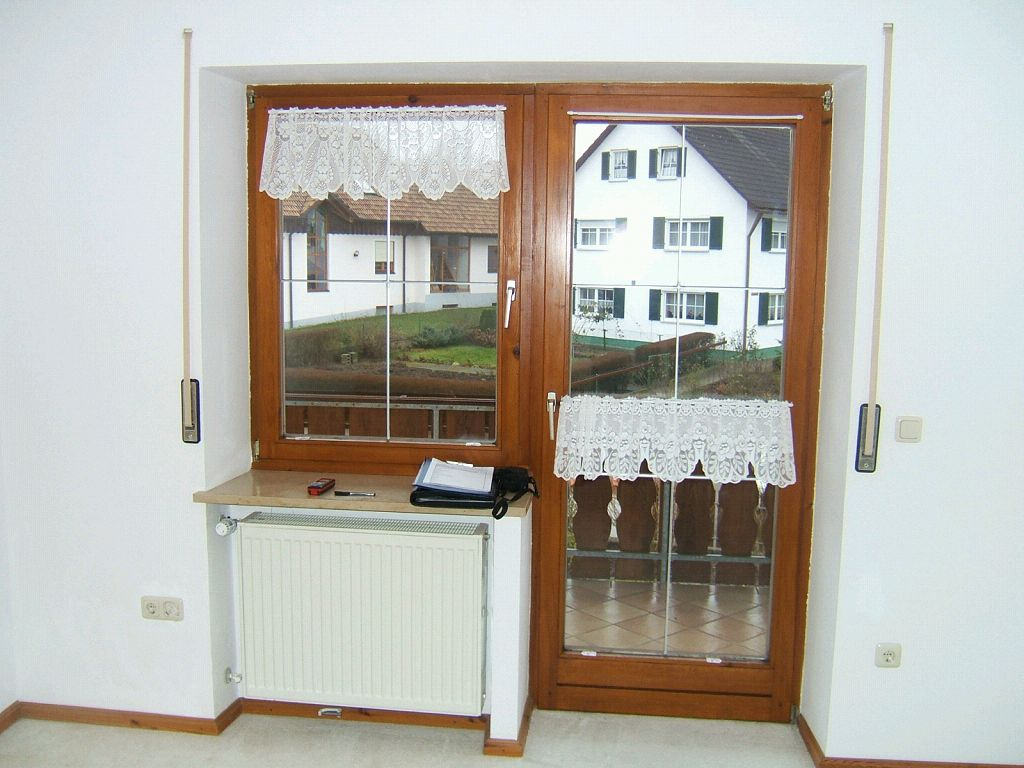windows: (247, 86, 502, 456)
